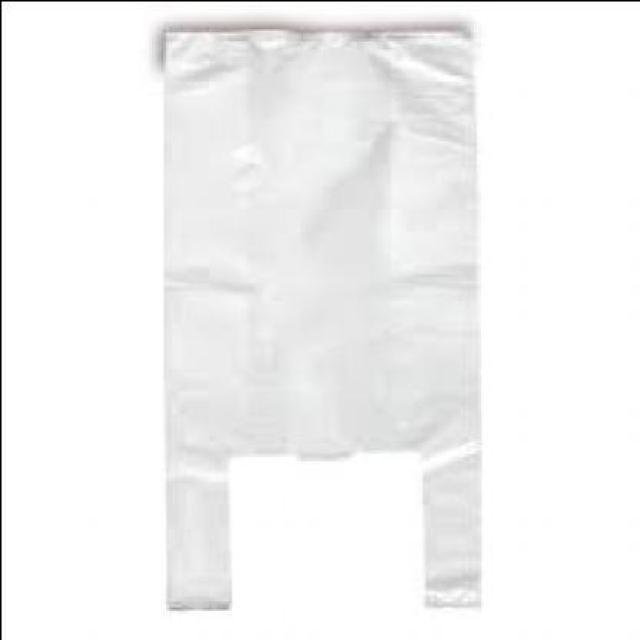PLASTIC: (164, 28, 479, 609)
